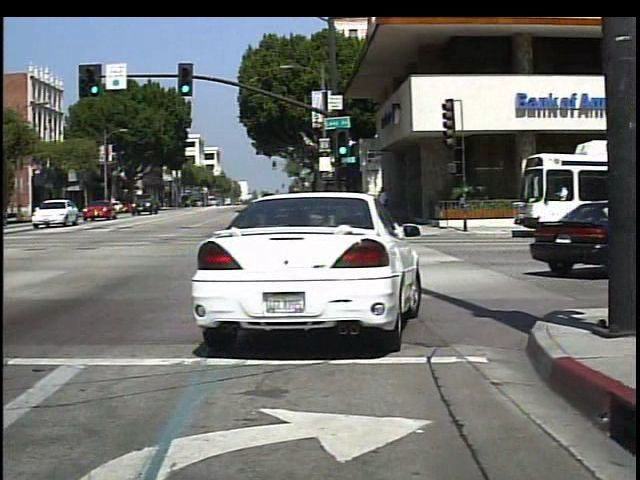person: (375, 183, 394, 224)
